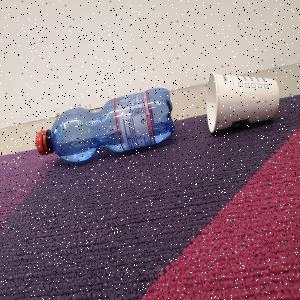Cup: (207, 73, 281, 136)
Plastic-bottle: (37, 88, 177, 164)
